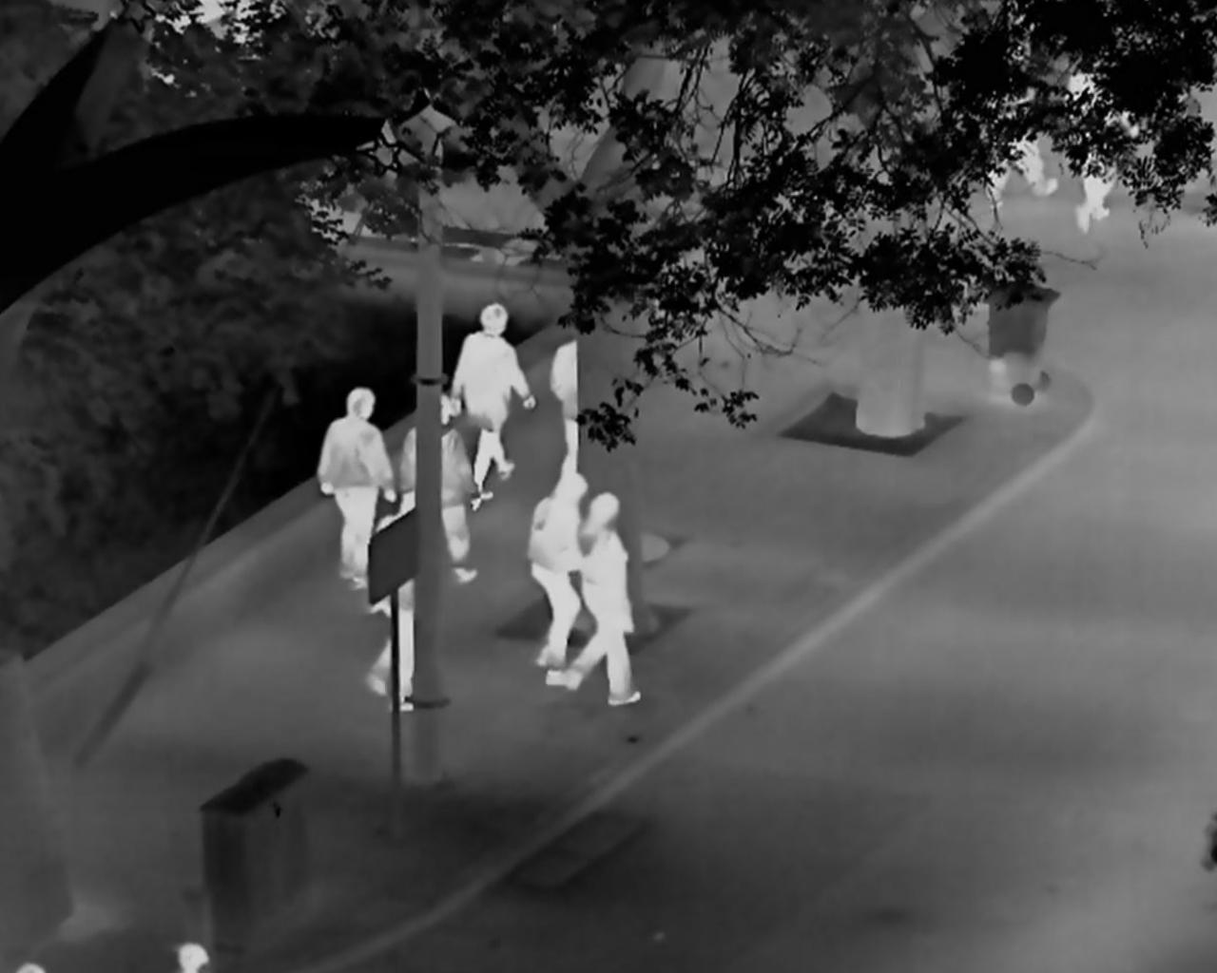person: (563, 492, 645, 707), (450, 302, 536, 501), (318, 387, 396, 592), (398, 392, 480, 585), (529, 468, 591, 689), (980, 42, 1060, 208), (1067, 62, 1138, 235), (371, 491, 418, 712), (548, 337, 580, 483)
